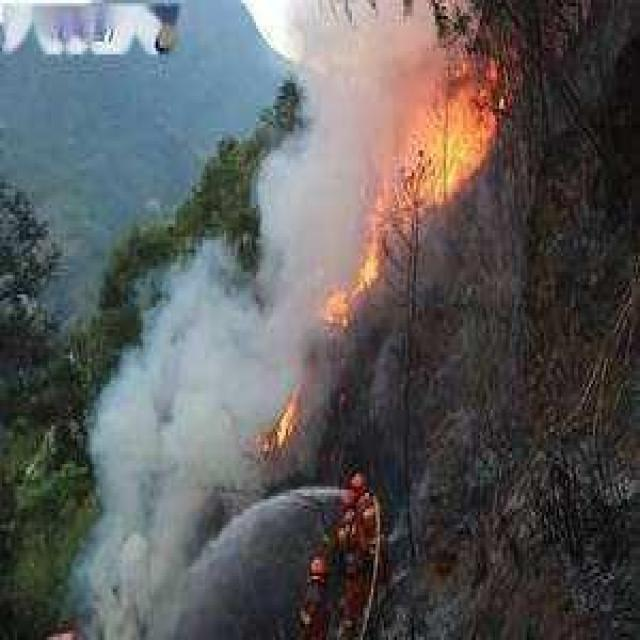fire: (312, 42, 514, 327), (249, 372, 307, 452)
other: (310, 470, 382, 596)
smoke: (133, 318, 245, 510), (291, 7, 374, 246), (92, 523, 179, 598)
